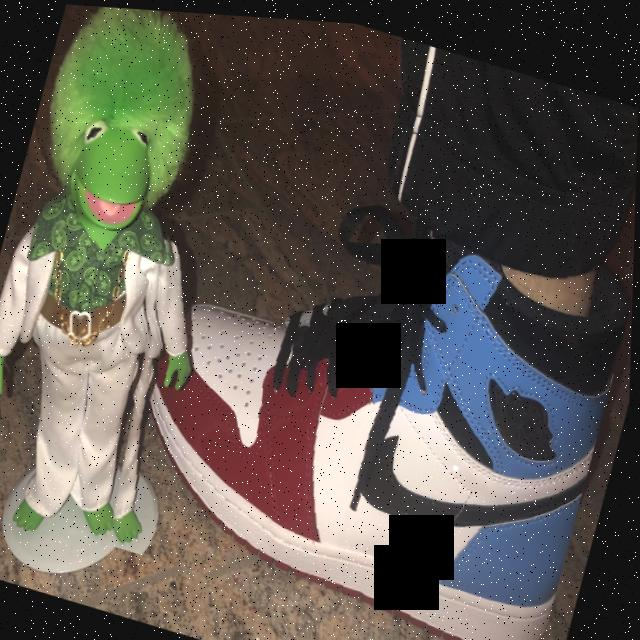shoe: (81, 131, 637, 640)
